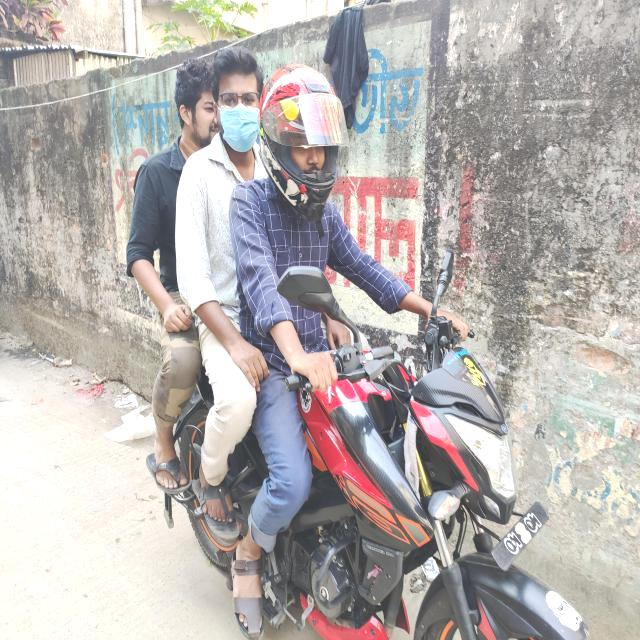motorcycle: (143, 297, 603, 640)
person: (228, 69, 361, 640), (122, 37, 232, 508), (180, 43, 276, 536)
